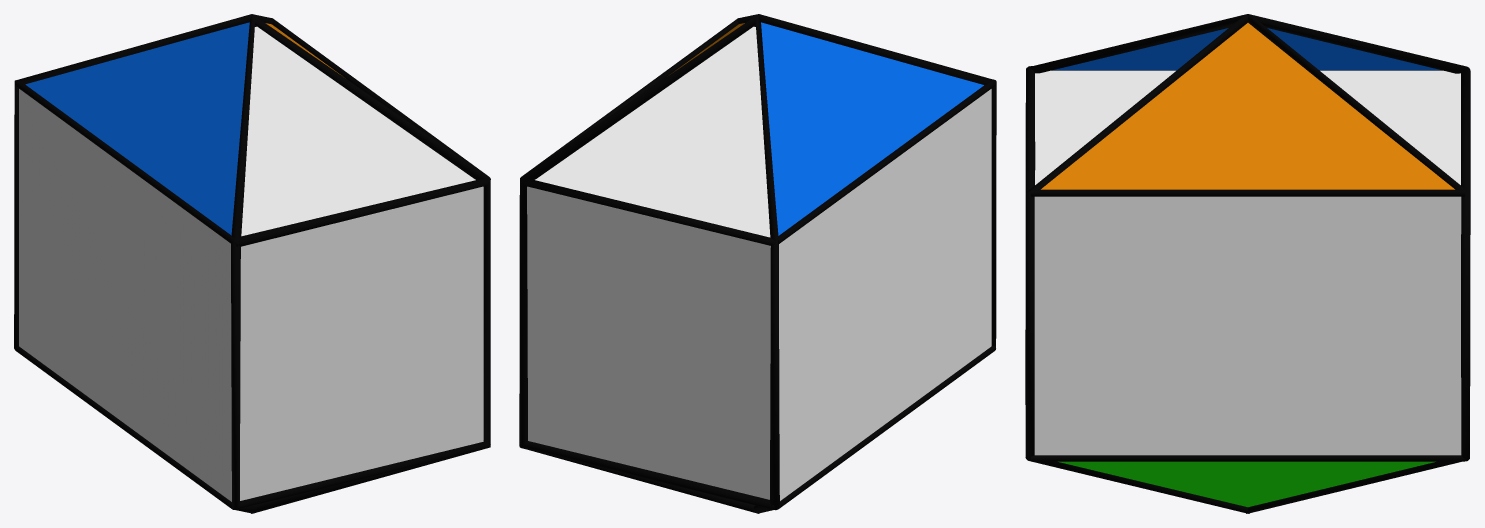
File: Cubicon9.glb
The picture shows the model from 3 angles, left to right: view 1: azimuth 30°, elevation 25°; view 2: azimuth 150°, elevation 25°; view 3: azimuth 270°, elevation 25°; orthographic projection.
Visible parts, largest first — view 1: Active, Cubicon Original; view 2: Active, Cubicon Original; view 3: Active, Cubicon Original.
Boxes of the visible parts, x1,y1,x2,y2 form: Active: [14, 18, 489, 509]; Cubicon Original: [14, 14, 490, 513]; Active: [520, 18, 995, 509]; Cubicon Original: [519, 14, 996, 513]; Active: [1031, 66, 1464, 461]; Cubicon Original: [1025, 14, 1470, 513].
Size of the model in its own units: 0.6832 by 1.26 by 1.01.
